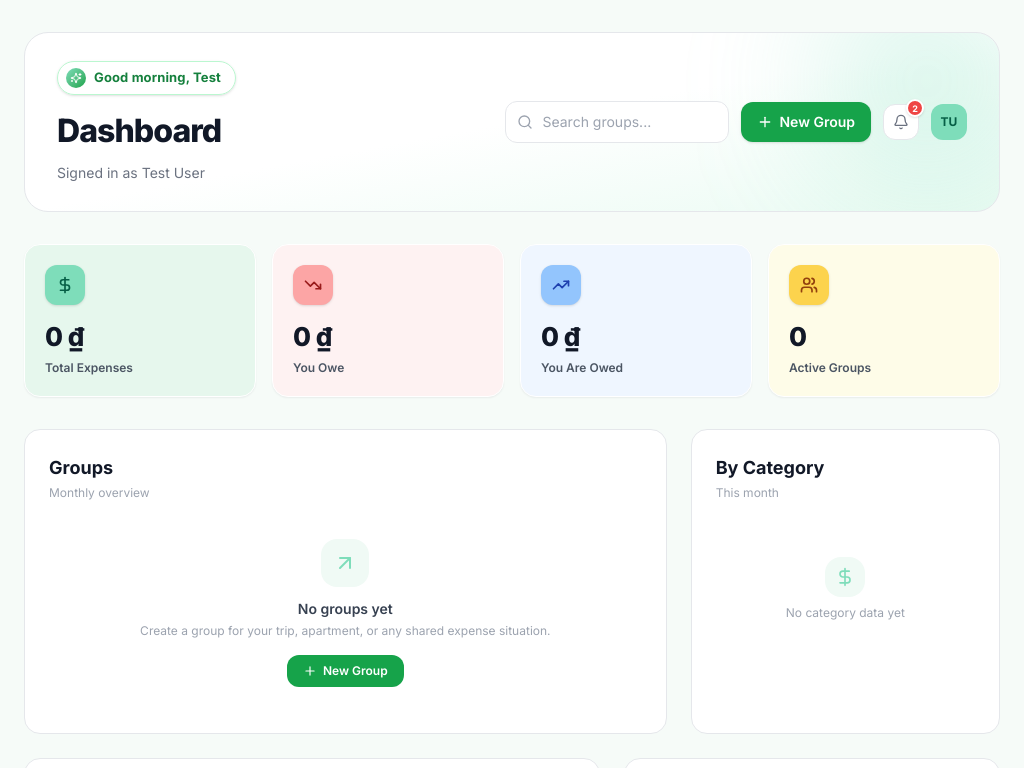
Scenario: Dashboard notification integration › deletes an unread notification and updates the badge
Step 1. Click the button named "Notifications, 2 unread notifications" → (901, 122), box [883, 104, 919, 140]
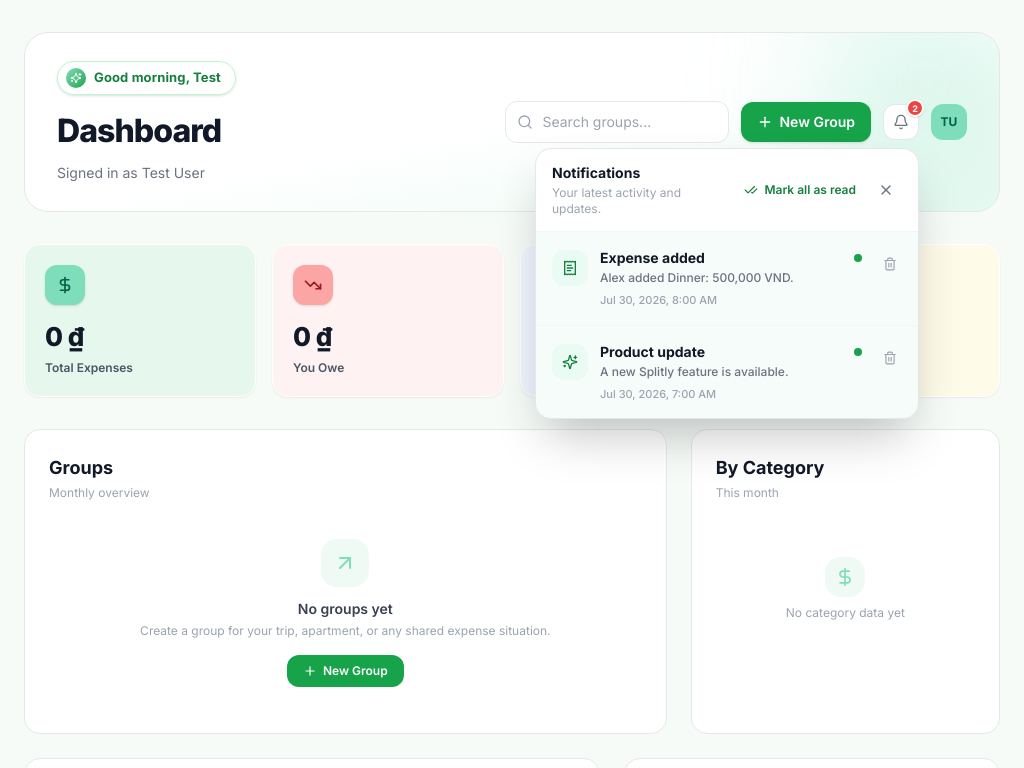
Step 2. Click the button named "Delete notification: Expense added" → (890, 264), box [874, 248, 906, 280]
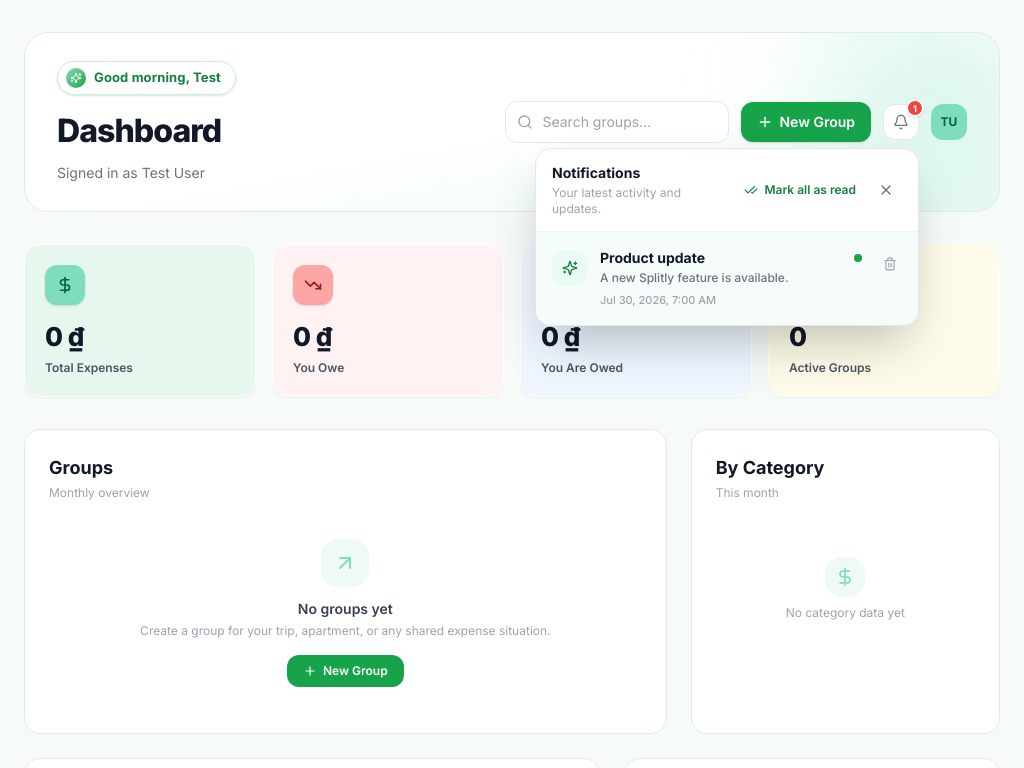
Check: the button "Expense added" is gone
Check: the button named "Notifications, 1 unread notification" is shown, box [883, 104, 919, 140]
